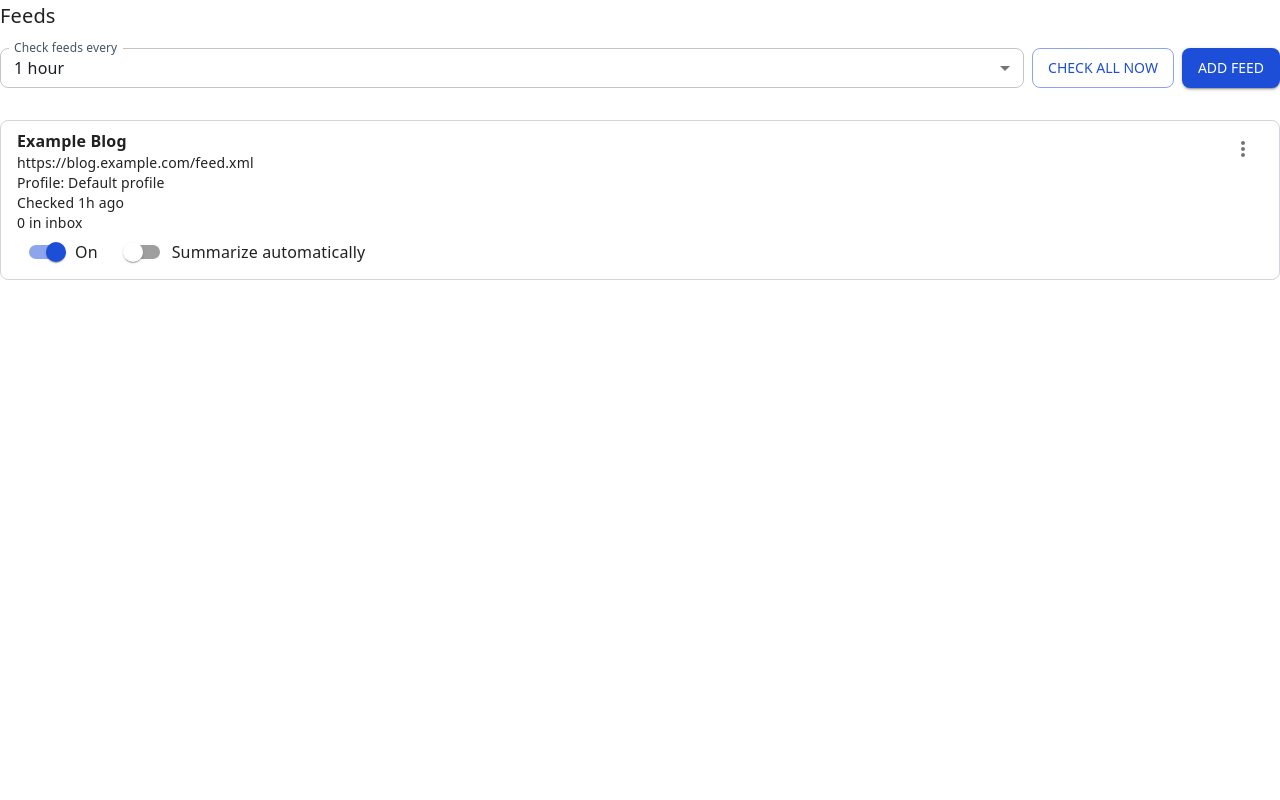
Test: FeedSettings › shows a dialog's failed change inside the dialog
What coordinates should you click on to do the following:
click the button named "Example Blog actions"
I would click on:
 (1243, 149)
Its box is [1223, 129, 1263, 169].
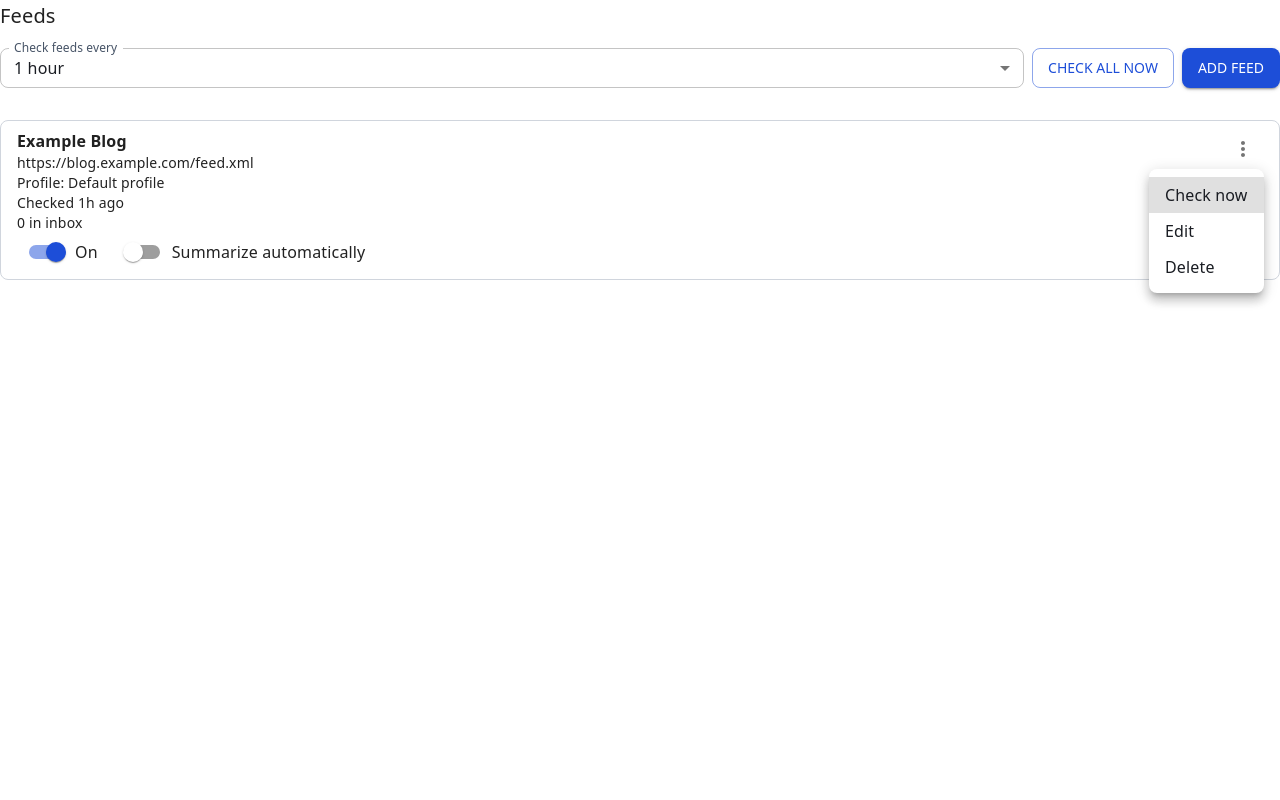
What coordinates should you click on to do the following:
click the menu item "Delete"
I would click on:
 (1190, 267)
Its box is [1165, 256, 1215, 278].
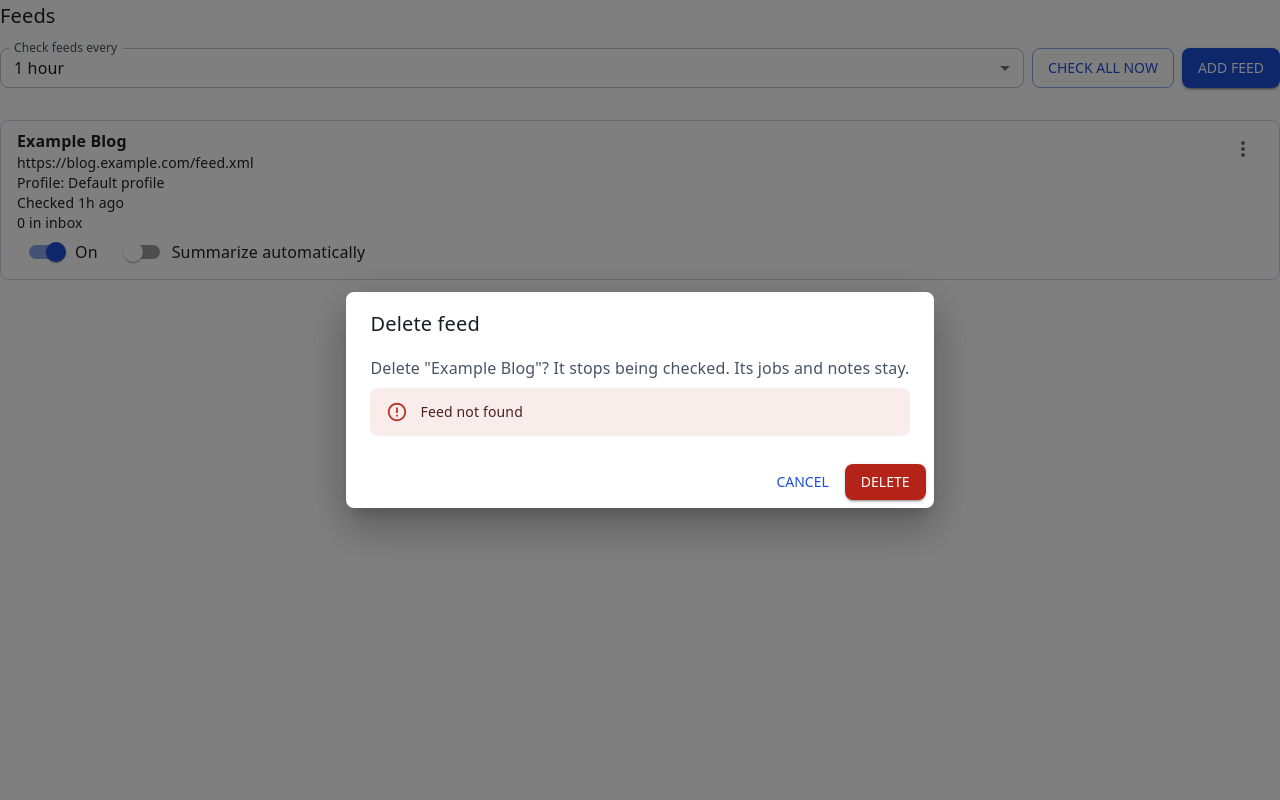
Result: the message reads "Feed not found" at [420, 402, 523, 421]
